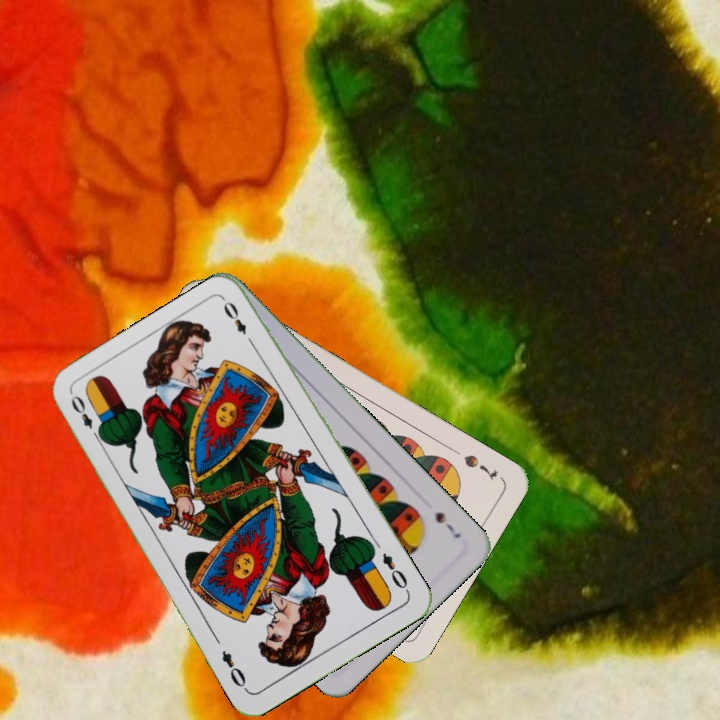EO: (66, 391, 105, 444), (378, 549, 412, 595)
S7: (460, 450, 500, 483), (431, 507, 464, 541)
